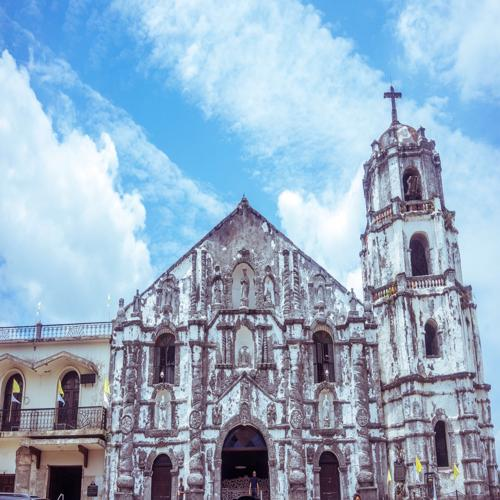Daraga Church: (111, 76, 500, 500)
